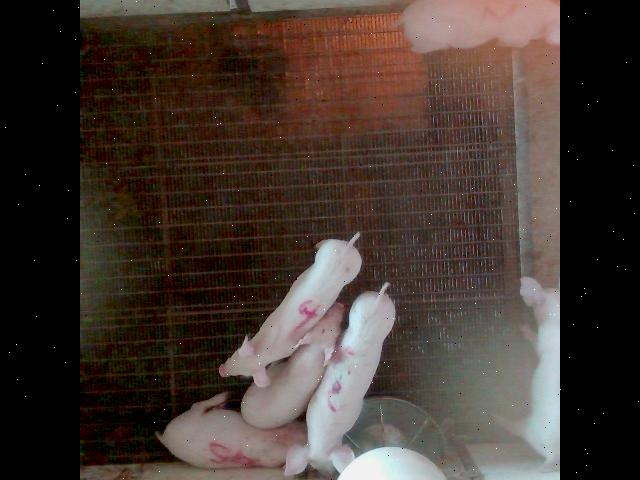pig-1: (499, 277, 559, 462)
pig-2: (401, 0, 558, 51)
pig-3: (287, 281, 395, 475)
pig-4: (219, 231, 361, 385)
pig-5: (156, 391, 307, 468)
